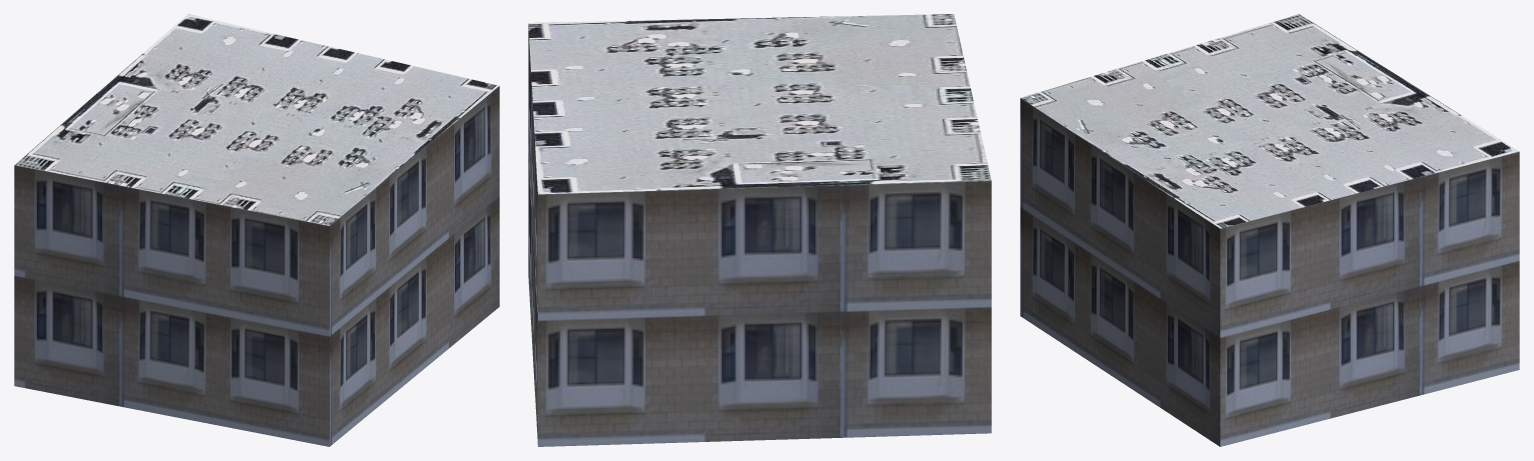
The model's file is ResTex__1591.fbx.
3 renders of one model, left to right at view 1: azimuth 30°, elevation 25°; view 2: azimuth 150°, elevation 25°; view 3: azimuth 270°, elevation 25°, orthographic. The views are drawn at different scales.
Parts seen in each view (by area): view 1: CityEngineMaterial_3_m, CityEngineMaterial_m; view 2: CityEngineMaterial_3_m, CityEngineMaterial_m; view 3: CityEngineMaterial_3_m, CityEngineMaterial_m.
Boxes of the visible parts, bbox=[...] form: CityEngineMaterial_3_m: bbox=[14, 86, 499, 446]; CityEngineMaterial_m: bbox=[14, 14, 498, 225]; CityEngineMaterial_3_m: bbox=[528, 26, 991, 446]; CityEngineMaterial_m: bbox=[528, 14, 991, 194]; CityEngineMaterial_3_m: bbox=[1020, 98, 1519, 446]; CityEngineMaterial_m: bbox=[1021, 14, 1518, 228].
Bounding box in the file's own units: 12.66 × 6 × 12.44.
2 materials, 2 textured.
